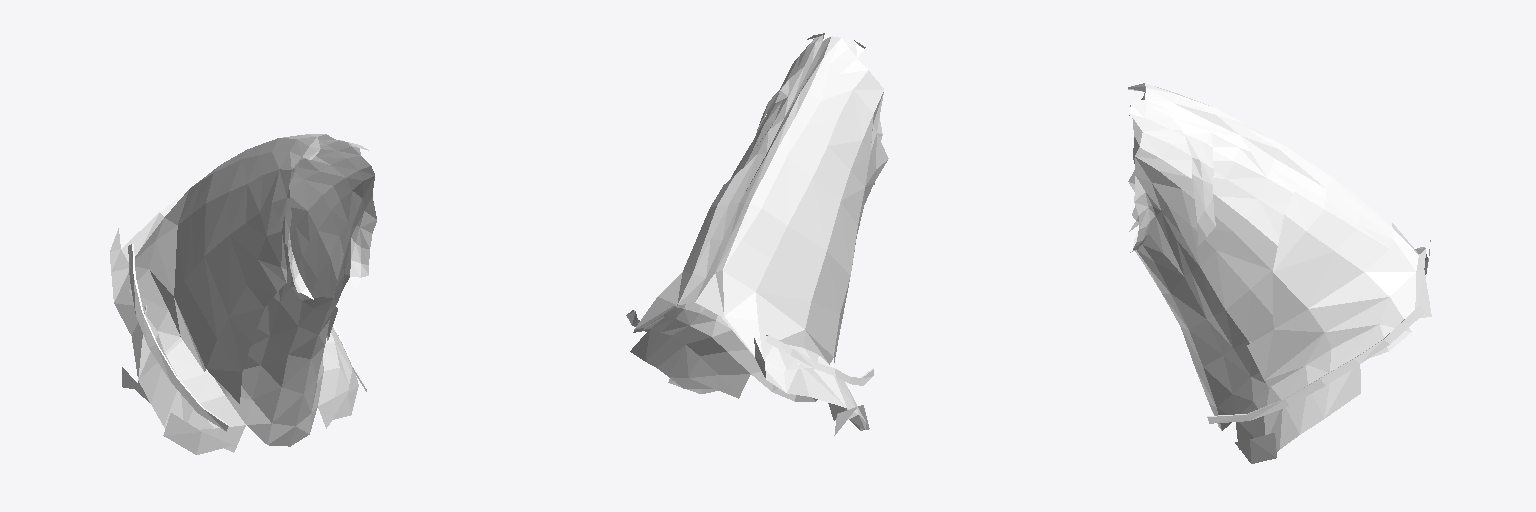
Rendered from neck.obj.
3 views of the same model, side by side, from view 1: azimuth 30°, elevation 25°; view 2: azimuth 150°, elevation 25°; view 3: azimuth 270°, elevation 25° (orthographic).
Parts seen in each view (by area): view 1: horse; view 2: horse; view 3: horse.
Part boxes in pixels (bbox=[...]): horse: bbox=[110, 134, 376, 454]; horse: bbox=[626, 33, 888, 435]; horse: bbox=[1128, 83, 1431, 463].
Bounding box in the file's own units: 22.54 × 36.07 × 29.2.